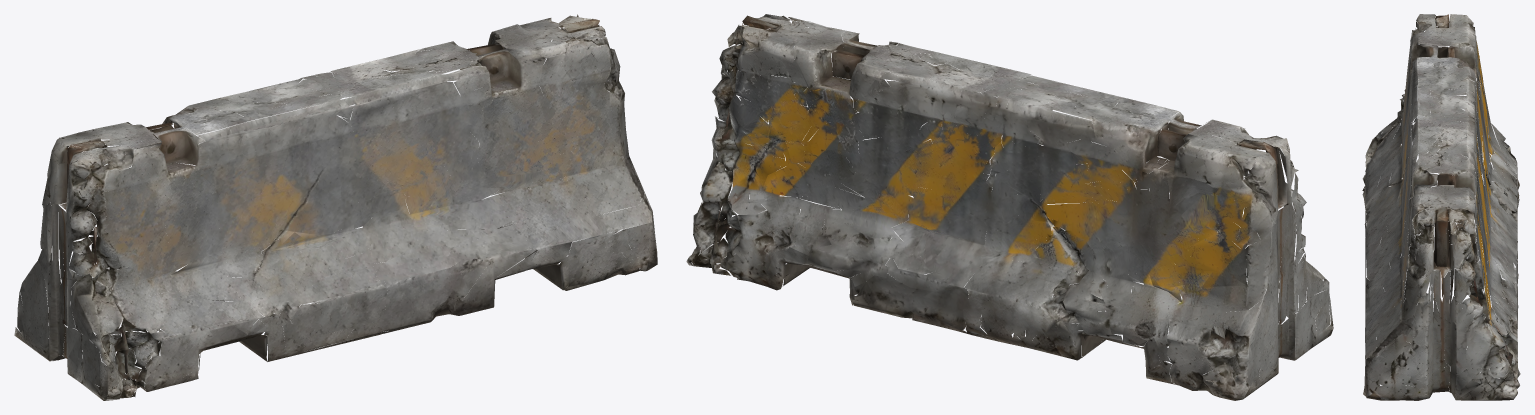
Rendered from road-barricade-v1.glb.
3 renders of one model, left to right at view 1: azimuth 30°, elevation 25°; view 2: azimuth 150°, elevation 25°; view 3: azimuth 270°, elevation 25°, orthographic. The views are drawn at different scales.
Parts seen in each view (by area): view 1: road-barricade; view 2: road-barricade; view 3: road-barricade.
Part boxes in pixels (left/top/right/bottom): road-barricade: left=14, top=14, right=657, bottom=400; road-barricade: left=686, top=14, right=1333, bottom=400; road-barricade: left=1362, top=14, right=1520, bottom=400.
Bounding box in the file's own units: 3 × 1.13 × 0.912.
Materials: 1 (1 with a texture image).
